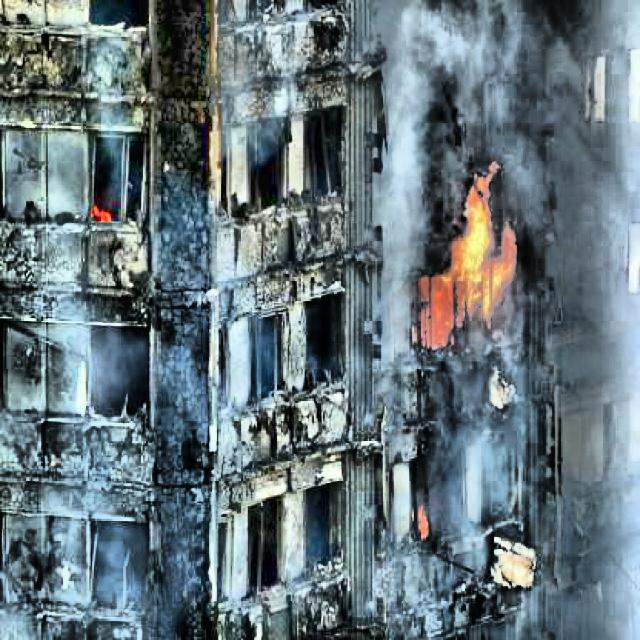Fire: (419, 162, 517, 344)
